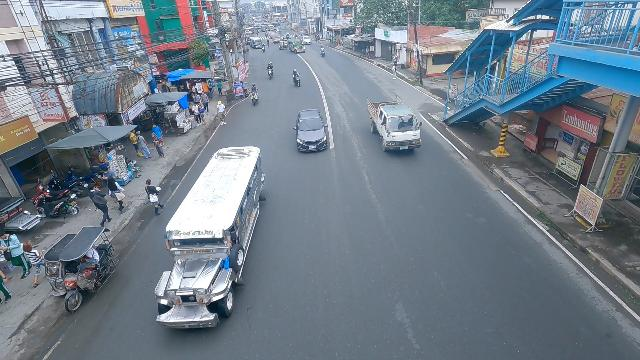car: (292, 108, 329, 154), (272, 35, 282, 43), (302, 37, 311, 45), (268, 31, 277, 39)
jeepney: (150, 145, 267, 333), (286, 38, 307, 53), (250, 37, 263, 48)
motorcycle: (248, 83, 260, 107), (291, 68, 302, 88), (266, 63, 274, 80), (320, 47, 326, 59), (261, 44, 265, 52), (267, 39, 270, 47)
truck: (366, 92, 423, 160)
